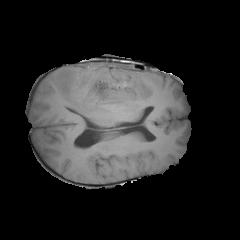glioma: (53, 70, 168, 128)
